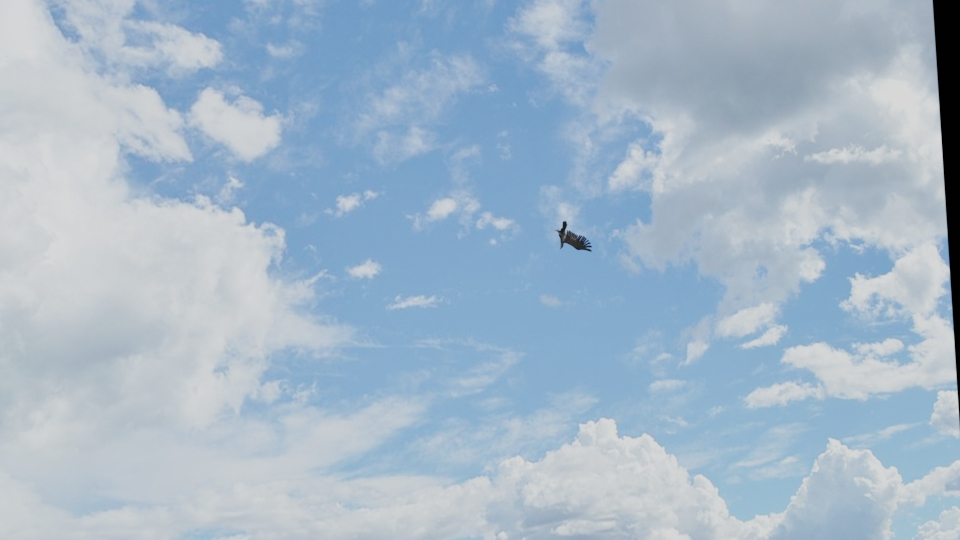bird: (555, 218, 592, 256)
